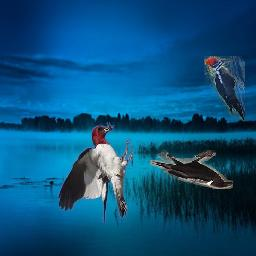Crow: (151, 151, 234, 190)
Woodpecker: (57, 123, 133, 224), (205, 57, 246, 122)
